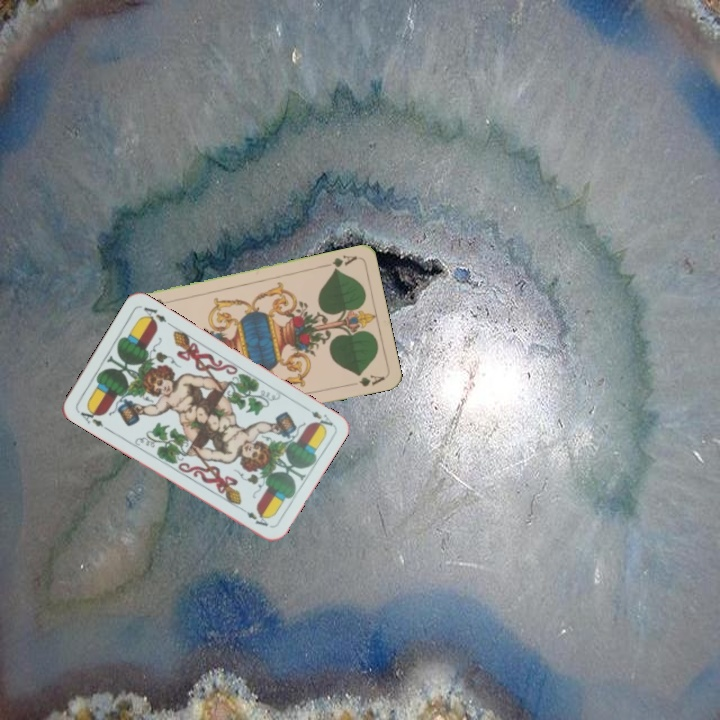EA: (74, 403, 111, 433), (299, 402, 336, 432)
GA: (320, 251, 360, 274)
